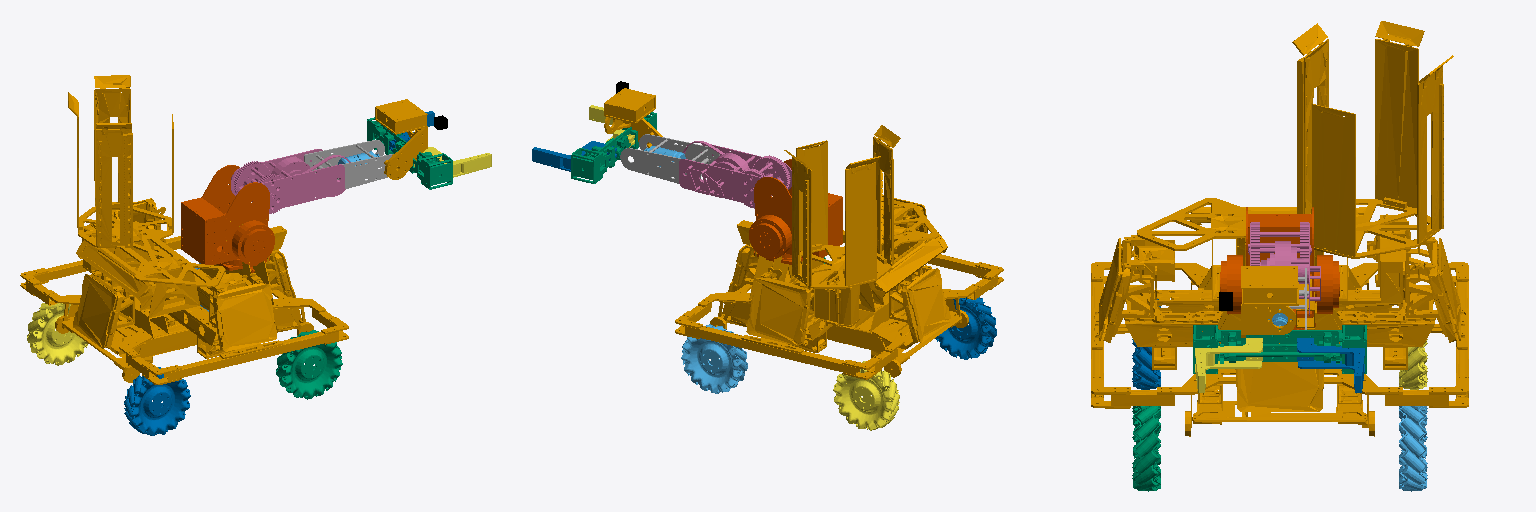
--- Render facts (derived) ---
Views: 3 orthographic renders of the robot side by side, from view 1: azimuth 30°, elevation 25°; view 2: azimuth 150°, elevation 25°; view 3: azimuth 270°, elevation 25°.
Robot: engineer — 78 links, 77 joints (9 revolute, 64 continuous, 2 prismatic, 2 fixed); root link base_link; default pose: all joints at 0.
Visible links, largest first — view 1: base_link, link1, link2, back_right_wheel, front_right_wheel, link4, back_left_wheel, link3, palm, right_finger; view 2: base_link, link2, link1, back_left_wheel, front_left_wheel, link3, back_right_wheel, link4, palm, left_finger; view 3: base_link, palm, link1, link4, link2, front_left_wheel, front_right_wheel, right_finger, left_finger, back_right_wheel, back_left_wheel.
Boxes of the visible links, bbox=[...] form: base_link: bbox=[20, 75, 348, 384]; link1: bbox=[181, 165, 274, 272]; link2: bbox=[231, 149, 350, 213]; back_right_wheel: bbox=[124, 367, 190, 435]; front_right_wheel: bbox=[276, 330, 342, 399]; link4: bbox=[375, 99, 427, 179]; back_left_wheel: bbox=[27, 300, 87, 365]; link3: bbox=[304, 140, 392, 188]; palm: bbox=[367, 117, 452, 189]; right_finger: bbox=[414, 147, 491, 177]; base_link: bbox=[675, 125, 1003, 379]; link2: bbox=[679, 141, 791, 208]; link1: bbox=[749, 159, 842, 264]; back_left_wheel: bbox=[833, 361, 899, 430]; front_left_wheel: bbox=[681, 324, 747, 393]; link3: bbox=[620, 134, 719, 183]; back_right_wheel: bbox=[935, 297, 996, 359]; link4: bbox=[604, 88, 662, 147]; palm: bbox=[571, 112, 656, 183]; left_finger: bbox=[532, 141, 616, 171]; base_link: bbox=[1091, 21, 1468, 436]; palm: bbox=[1193, 325, 1366, 373]; link1: bbox=[1220, 207, 1339, 329]; link4: bbox=[1241, 266, 1298, 337]; link2: bbox=[1248, 222, 1320, 315]; front_left_wheel: bbox=[1399, 406, 1427, 491]; front_right_wheel: bbox=[1132, 406, 1160, 491]; right_finger: bbox=[1195, 338, 1262, 392]; left_finger: bbox=[1297, 338, 1364, 392]; back_right_wheel: bbox=[1132, 299, 1160, 389]; back_left_wheel: bbox=[1399, 339, 1427, 389].
Size in the robot's own frame: 0.959 by 0.596 by 0.6316 metres.
13 mesh visuals loaded from 11 distinct referenced files (11 binary STL).

robot.urdf — engineer:
<?xml version="1.0" ?>
<!-- =================================================================================== -->
<!-- |    This document was autogenerated by xacro from engineer.urdf.xacro            | -->
<!-- |    EDITING THIS FILE BY HAND IS NOT RECOMMENDED                                 | -->
<!-- =================================================================================== -->
<robot name="engineer">
  <link name="base_link">
    <inertial>
      <mass value="28.19"/>
      <origin xyz="-0.0206 -0.00126 -0.0164"/>
      <inertia ixx="1.32e+0" ixy="-8.378e-2" ixz="6.28e-2" iyy="1.549e+0" iyz="5.948e-2" izz="2.024e+0"/>
    </inertial>
    <visual>
      <origin rpy="0 0 0" xyz="0 0 0"/>
      <geometry>
        <mesh filename="package://rm_description/meshes/engineer/base.stl" scale="0.001 .001 0.001"/>
      </geometry>
    </visual>
    <collision>
      <origin rpy="0 0 0" xyz="0 0 0"/>
      <geometry>
        <box size="0.5845 0.526 0.2"/>
      </geometry>
    </collision>
    <!--            <collision>
                            <origin xyz="-0.033 -0.1 0.267" rpy="0 0 0.7853982"/>
                            <geometry>
                                <box size="0.0207 0.0207 0.334"/>
                            </geometry>
                        </collision>
                        <collision>
                            <origin xyz="-0.033 0.10 0.267" rpy="0 0 0.7853982"/>
                            <geometry>
                                <box size="0.0207 0.0207 0.334"/>
                            </geometry>
                        </collision>-->
    <collision>
      <origin rpy="0 0 0.7853982" xyz="-0.23225 -0.1 0.267"/>
      <geometry>
        <box size="0.0207 0.0207 0.334"/>
      </geometry>
    </collision>
    <collision>
      <origin rpy="0 0 0.7853982" xyz="-0.23225 0.1 0.267"/>
      <geometry>
        <box size="0.0207 0.0207 0.334"/>
      </geometry>
    </collision>
    <collision>
      <origin rpy="0 0 0" xyz="-0.193 -0.189 0.235"/>
      <geometry>
        <box size="0.186 0.1 0.3"/>
      </geometry>
    </collision>
    <collision>
      <origin rpy="0 0 0" xyz="-0.0623 -0.2405 0.242"/>
      <geometry>
        <box size="0.08 0.003 0.06"/>
      </geometry>
    </collision>
  </link>
  <!--  link  -->
  <link name="front_left_wheel">
    <visual>
      <geometry>
        <mesh filename="package://rm_description/meshes/common/right_threaded_mecanum_wheel.stl" scale="0.001 0.001 0.001"/>
      </geometry>
    </visual>
    <inertial>
      <mass value="0.59"/>
      <inertia ixx="1.416e-3" ixy="0.0" ixz="0.0" iyy="2.749e-3" iyz="0.0" izz="1.416e-3"/>
    </inertial>
  </link>
  <!--  joint  -->
  <joint name="front_left_wheel_joint" type="revolute">
    <axis xyz="0 1 0"/>
    <origin rpy="0 0 0" xyz="0.19 0.21 -0.109"/>
    <!--      limit not work while type="continuous"-->
    <limit effort="5" lower="-1e16" upper="1e16" velocity="50"/>
    <dynamics damping="0.0" friction="0.05"/>
    <parent link="base_link"/>
    <child link="front_left_wheel"/>
  </joint>
  <!--  link  -->
  <link name="front_left_roller_0">
    <collision>
      <geometry>
        <sphere radius="0.009"/>
      </geometry>
    </collision>
    <inertial>
      <mass value="0.036"/>
      <inertia ixx="3128e-9" ixy="0.0" ixz="0.0" iyy="3128e-9" iyz="0.0" izz="3128e-9"/>
    </inertial>
  </link>
  <joint name="front_left_roller_0_joint" type="continuous">
    <origin rpy="0 0 0" xyz="4.117874862132975e-18 0 -0.06725"/>
    <axis xyz="0.7071067811865476 -0.7071067811865476 0.0"/>
    <dynamics damping="0.0" friction="0.001"/>
    <parent link="front_left_wheel"/>
    <child link="front_left_roller_0"/>
  </joint>
  <gazebo reference="front_left_roller_0">
    <mu1 value="2000.0"/>
    <mu2 value="2000.0"/>
    <kp value="1000000.0"/>
    <kd value="100.0"/>
    <material>Gazebo/Black</material>
  </gazebo>
  <!--  link  -->
  <link name="front_left_roller_1">
    <collision>
      <geometry>
        <sphere radius="0.009"/>
      </geometry>
    </collision>
    <inertial>
      <mass value="0.036"/>
      <inertia ixx="3128e-9" ixy="0.0" ixz="0.0" iyy="3128e-9" iyz="0.0" izz="3128e-9"/>
    </inertial>
  </link>
  <joint name="front_left_roller_1_joint" type="continuous">
    <origin rpy="0 0 0" xyz="0.025754155985525513 0 -0.06212315147731336"/>
    <axis xyz="0.653200024955946 -0.7071067811865476 0.27079462217250855"/>
    <dynamics damping="0.0" friction="0.001"/>
    <parent link="front_left_wheel"/>
    <child link="front_left_roller_1"/>
  </joint>
  <gazebo reference="front_left_roller_1">
    <mu1 value="2000.0"/>
    <mu2 value="2000.0"/>
    <kp value="1000000.0"/>
    <kd value="100.0"/>
    <material>Gazebo/Black</material>
  </gazebo>
  <!--  link  -->
  <link name="front_left_roller_2">
    <collision>
      <geometry>
        <sphere radius="0.009"/>
      </geometry>
    </collision>
    <inertial>
      <mass value="0.036"/>
      <inertia ixx="3128e-9" ixy="0.0" ixz="0.0" iyy="3128e-9" iyz="0.0" izz="3128e-9"/>
    </inertial>
  </link>
  <joint name="front_left_roller_2_joint" type="continuous">
    <origin rpy="0 0 0" xyz="0.04758154151551398 0 -0.04752430333005861"/>
    <axis xyz="0.49969899116506866 -0.7071067811865476 0.5003008277312888"/>
    <dynamics damping="0.0" friction="0.001"/>
    <parent link="front_left_wheel"/>
    <child link="front_left_roller_2"/>
  </joint>
  <gazebo reference="front_left_roller_2">
    <mu1 value="2000.0"/>
    <mu2 value="2000.0"/>
    <kp value="1000000.0"/>
    <kd value="100.0"/>
    <material>Gazebo/Black</material>
  </gazebo>
  <!--  link  -->
  <link name="front_left_roller_3">
    <collision>
      <geometry>
        <sphere radius="0.009"/>
      </geometry>
    </collision>
    <inertial>
      <mass value="0.036"/>
      <inertia ixx="3128e-9" ixy="0.0" ixz="0.0" iyy="3128e-9" iyz="0.0" izz="3128e-9"/>
    </inertial>
  </link>
  <joint name="front_left_roller_3_joint" type="continuous">
    <origin rpy="0 0 0" xyz="0.062154106054395655 0 -0.02567936137404779"/>
    <axis xyz="0.2700081868271984 -0.7071067811865476 0.6535254999204613"/>
    <dynamics damping="0.0" friction="0.001"/>
    <parent link="front_left_wheel"/>
    <child link="front_left_roller_3"/>
  </joint>
  <gazebo reference="front_left_roller_3">
    <mu1 value="2000.0"/>
    <mu2 value="2000.0"/>
    <kp value="1000000.0"/>
    <kd value="100.0"/>
    <material>Gazebo/Black</material>
  </gazebo>
  <!--  link  -->
  <link name="front_left_roller_4">
    <collision>
      <geometry>
        <sphere radius="0.009"/>
      </geometry>
    </collision>
    <inertial>
      <mass value="0.036"/>
      <inertia ixx="3128e-9" ixy="0.0" ixz="0.0" iyy="3128e-9" iyz="0.0" izz="3128e-9"/>
    </inertial>
  </link>
  <joint name="front_left_roller_4_joint" type="continuous">
    <origin rpy="0 0 0" xyz="0.06724995128312455 0 8.094700349681064e-05"/>
    <axis xyz="-0.0008511252801386329 -0.7071067811865476 0.7071062689481388"/>
    <dynamics damping="0.0" friction="0.001"/>
    <parent link="front_left_wheel"/>
    <child link="front_left_roller_4"/>
  </joint>
  <gazebo reference="front_left_roller_4">
    <mu1 value="2000.0"/>
    <mu2 value="2000.0"/>
    <kp value="1000000.0"/>
    <kd value="100.0"/>
    <material>Gazebo/Black</material>
  </gazebo>
  <!--  link  -->
  <link name="front_left_roller_5">
    <collision>
      <geometry>
        <sphere radius="0.009"/>
      </geometry>
    </collision>
    <inertial>
      <mass value="0.036"/>
      <inertia ixx="3128e-9" ixy="0.0" ixz="0.0" iyy="3128e-9" iyz="0.0" izz="3128e-9"/>
    </inertial>
  </link>
  <joint name="front_left_roller_5_joint" type="continuous">
    <origin rpy="0 0 0" xyz="0.06209210689440703 0 0.025828913283634913"/>
    <axis xyz="-0.27158066518271434 -0.7071067811865476 0.6528736036162853"/>
    <dynamics damping="0.0" friction="0.001"/>
    <parent link="front_left_wheel"/>
    <child link="front_left_roller_5"/>
  </joint>
  <gazebo reference="front_left_roller_5">
    <mu1 value="2000.0"/>
    <mu2 value="2000.0"/>
    <kp value="1000000.0"/>
    <kd value="100.0"/>
    <material>Gazebo/Black</material>
  </gazebo>
  <!--  link  -->
  <link name="front_left_roller_6">
    <collision>
      <geometry>
        <sphere radius="0.009"/>
      </geometry>
    </collision>
    <inertial>
      <mass value="0.036"/>
      <inertia ixx="3128e-9" ixy="0.0" ixz="0.0" iyy="3128e-9" iyz="0.0" izz="3128e-9"/>
    </inertial>
  </link>
  <joint name="front_left_roller_6_joint" type="continuous">
    <origin rpy="0 0 0" xyz="0.04746699629001391 0 0.04763871076345167"/>
    <axis xyz="-0.5009019394471561 -0.7071067811865476 0.499096430620454"/>
    <dynamics damping="0.0" friction="0.001"/>
    <parent link="front_left_wheel"/>
    <child link="front_left_roller_6"/>
  </joint>
  <gazebo reference="front_left_roller_6">
    <mu1 value="2000.0"/>
    <mu2 value="2000.0"/>
    <kp value="1000000.0"/>
    <kd value="100.0"/>
    <material>Gazebo/Black</material>
  </gazebo>
  <!--  link  -->
  <link name="front_left_roller_7">
    <collision>
      <geometry>
        <sphere radius="0.009"/>
      </geometry>
    </collision>
    <inertial>
      <mass value="0.036"/>
      <inertia ixx="3128e-9" ixy="0.0" ixz="0.0" iyy="3128e-9" iyz="0.0" izz="3128e-9"/>
    </inertial>
  </link>
  <joint name="front_left_roller_7_joint" type="continuous">
    <origin rpy="0 0 0" xyz="0.02560452955756635 0 0.06218497058080603"/>
    <axis xyz="-0.6538500280382736 -0.7071067811865476 0.2692213602861942"/>
    <dynamics damping="0.0" friction="0.001"/>
    <parent link="front_left_wheel"/>
    <child link="front_left_roller_7"/>
  </joint>
  <gazebo reference="front_left_roller_7">
    <mu1 value="2000.0"/>
    <mu2 value="2000.0"/>
    <kp value="1000000.0"/>
    <kd value="100.0"/>
    <material>Gazebo/Black</material>
  </gazebo>
  <!--  link  -->
  <link name="front_left_roller_8">
    <collision>
      <geometry>
        <sphere radius="0.009"/>
      </geometry>
    </collision>
    <inertial>
      <mass value="0.036"/>
      <inertia ixx="3128e-9" ixy="0.0" ixz="0.0" iyy="3128e-9" iyz="0.0" izz="3128e-9"/>
    </inertial>
  </link>
  <joint name="front_left_roller_8_joint" type="continuous">
    <origin rpy="0 0 0" xyz="-0.0001618938897152502 0 0.06724980513256877"/>
    <axis xyz="-0.7071047322336546 -0.7071067811865476 -0.0017022493271422689"/>
    <dynamics damping="0.0" friction="0.001"/>
    <parent link="front_left_wheel"/>
    <child link="front_left_roller_8"/>
  </joint>
  <gazebo reference="front_left_roller_8">
    <mu1 value="2000.0"/>
    <mu2 value="2000.0"/>
    <kp value="1000000.0"/>
    <kd value="100.0"/>
    <material>Gazebo/Black</material>
  </gazebo>
  <!--  link  -->
  <link name="front_left_roller_9">
    <collision>
      <geometry>
        <sphere radius="0.009"/>
      </geometry>
    </collision>
    <inertial>
      <mass value="0.036"/>
      <inertia ixx="3128e-9" ixy="0.0" ixz="0.0" iyy="3128e-9" iyz="0.0" izz="3128e-9"/>
    </inertial>
  </link>
  <joint name="front_left_roller_9_joint" type="continuous">
    <origin rpy="0 0 0" xyz="-0.025903633160065442 0 0.062060972350654955"/>
    <axis xyz="-0.6525462363744081 -0.7071067811865476 -0.2723663147189738"/>
    <dynamics damping="0.0" friction="0.001"/>
    <parent link="front_left_wheel"/>
    <child link="front_left_roller_9"/>
  </joint>
  <gazebo reference="front_left_roller_9">
    <mu1 value="2000.0"/>
    <mu2 value="2000.0"/>
    <kp value="1000000.0"/>
    <kd value="100.0"/>
    <material>Gazebo/Black</material>
  </gazebo>
  <!--  link  -->
  <link name="front_left_roller_10">
    <collision>
      <geometry>
        <sphere radius="0.009"/>
      </geometry>
    </collision>
    <inertial>
      <mass value="0.036"/>
      <inertia ixx="3128e-9" ixy="0.0" ixz="0.0" iyy="3128e-9" iyz="0.0" izz="3128e-9"/>
    </inertial>
  </link>
  <joint name="front_left_roller_10_joint" type="continuous">
    <origin rpy="0 0 0" xyz="-0.04769581099104322 0 0.04740962047840798"/>
    <axis xyz="-0.49849314697045194 -0.7071067811865476 -0.5015023254417625"/>
    <dynamics damping="0.0" friction="0.001"/>
    <parent link="front_left_wheel"/>
    <child link="front_left_roller_10"/>
  </joint>
  <gazebo reference="front_left_roller_10">
    <mu1 value="2000.0"/>
    <mu2 value="2000.0"/>
    <kp value="1000000.0"/>
    <kd value="100.0"/>
    <material>Gazebo/Black</material>
  </gazebo>
  <!--  link  -->
  <link name="front_left_roller_11">
    <collision>
      <geometry>
        <sphere radius="0.009"/>
      </geometry>
    </collision>
    <inertial>
      <mass value="0.036"/>
      <inertia ixx="3128e-9" ixy="0.0" ixz="0.0" iyy="3128e-9" iyz="0.0" izz="3128e-9"/>
    </inertial>
  </link>
  <joint name="front_left_roller_11_joint" type="continuous">
    <origin rpy="0 0 0" xyz="-0.06221574501182705 0 0.02552966064449972"/>
    <axis xyz="-0.2684341436894733 -0.7071067811865476 -0.6541736088391974"/>
    <dynamics damping="0.0" friction="0.001"/>
    <parent link="front_left_wheel"/>
    <child link="front_left_roller_11"/>
  </joint>
  <gazebo reference="front_left_roller_11">
    <mu1 value="2000.0"/>
    <mu2 value="2000.0"/>
    <kp value="1000000.0"/>
    <kd value="100.0"/>
    <material>Gazebo/Black</material>
  </gazebo>
  <!--  link  -->
  <link name="front_left_roller_12">
    <collision>
      <geometry>
        <sphere radius="0.009"/>
      </geometry>
    </collision>
    <inertial>
      <mass value="0.036"/>
      <inertia ixx="3128e-9" ixy="0.0" ixz="0.0" iyy="3128e-9" iyz="0.0" izz="3128e-9"/>
    </inertial>
  </link>
  <joint name="front_left_roller_12_joint" type="continuous">
    <origin rpy="0 0 0" xyz="-0.06724956154854442 0 -0.00024284054137712588"/>
    <axis xyz="0.002553370907877698 -0.7071067811865476 -0.7071021710453214"/>
    <dynamics damping="0.0" friction="0.001"/>
    <parent link="front_left_wheel"/>
    <child link="front_left_roller_12"/>
  </joint>
  <gazebo reference="front_left_roller_12">
    <mu1 value="2000.0"/>
    <mu2 value="2000.0"/>
    <kp value="1000000.0"/>
    <kd value="100.0"/>
    <material>Gazebo/Black</material>
  </gazebo>
  <!--  link  -->
  <link name="front_left_roller_13">
    <collision>
      <geometry>
        <sphere radius="0.009"/>
      </geometry>
    </collision>
    <inertial>
      <mass value="0.036"/>
      <inertia ixx="3128e-9" ixy="0.0" ixz="0.0" iyy="3128e-9" iyz="0.0" izz="3128e-9"/>
    </inertial>
  </link>
  <joint name="front_left_roller_13_joint" type="continuous">
    <origin rpy="0 0 0" xyz="-0.062029747891165755 0 -0.025978315506560806"/>
    <axis xyz="0.2731515696430154 -0.7071067811865476 -0.6522179237046135"/>
    <dynamics damping="0.0" friction="0.001"/>
    <parent link="front_left_wheel"/>
    <child link="front_left_roller_13"/>
  </joint>
  <gazebo reference="front_left_roller_13">
    <mu1 value="2000.0"/>
    <mu2 value="2000.0"/>
    <kp value="1000000.0"/>
    <kd value="100.0"/>
    <material>Gazebo/Black</material>
  </gazebo>
  <!--  link  -->
  <link name="front_left_roller_14">
    <collision>
      <geometry>
        <sphere radius="0.009"/>
      </geometry>
    </collision>
    <inertial>
      <mass value="0.036"/>
      <inertia ixx="3128e-9" ixy="0.0" ixz="0.0" iyy="3128e-9" iyz="0.0" izz="3128e-9"/>
    </inertial>
  </link>
  <joint name="front_left_roller_14_joint" type="continuous">
    <origin rpy="0 0 0" xyz="-0.047352175978368535 0 -0.04775284211556018"/>
    <axis xyz="0.5021019848452515 -0.7071067811865476 -0.49788914108911725"/>
    <dynamics damping="0.0" friction="0.001"/>
    <parent link="front_left_wheel"/>
    <child link="front_left_roller_14"/>
  </joint>
  <gazebo reference="front_left_roller_14">
    <mu1 value="2000.0"/>
    <mu2 value="2000.0"/>
    <kp value="1000000.0"/>
    <kd value="100.0"/>
    <material>Gazebo/Black</material>
  </gazebo>
  <!--  link  -->
  <link name="front_left_roller_15">
    <collision>
      <geometry>
        <sphere radius="0.009"/>
      </geometry>
    </collision>
    <inertial>
      <mass value="0.036"/>
      <inertia ixx="3128e-9" ixy="0.0" ixz="0.0" iyy="3128e-9" iyz="0.0" izz="3128e-9"/>
    </inertial>
  </link>
  <joint name="front_left_roller_15_joint" type="continuous">
    <origin rpy="0 0 0" xyz="-0.025454754743320145 0 -0.06224642930287183"/>
    <axis xyz="0.6544962418544192 -0.7071067811865476 -0.2676465381775779"/>
    <dynamics damping="0.0" friction="0.001"/>
    <parent link="front_left_wheel"/>
    <child link="front_left_roller_15"/>
  </joint>
  <gazebo reference="front_left_roller_15">
    <mu1 value="2000.0"/>
    <mu2 value="2000.0"/>
    <kp value="1000000.0"/>
    <kd value="100.0"/>
    <material>Gazebo/Black</material>
  </gazebo>
  <!--  link  -->
  <link name="front_right_wheel">
    <visual>
      <geometry>
        <mesh filename="package://rm_description/meshes/common/left_threaded_mecanum_wheel.stl" scale="0.001 0.001 0.001"/>
      </geometry>
    </visual>
    <inertial>
      <mass value="0.59"/>
      <inertia ixx="1.416e-3" ixy="0.0" ixz="0.0" iyy="2.749e-3" iyz="0.0" izz="1.416e-3"/>
    </inertial>
  </link>
  <!--  joint  -->
  <joint name="front_right_wheel_joint" type="revolute">
    <axis xyz="0 1 0"/>
    <origin rpy="0 0 0" xyz="0.19 -0.21 -0.109"/>
    <!--      limit not work while type="continuous"-->
    <limit effort="5" lower="-1e16" upper="1e16" velocity="50"/>
    <dynamics damping="0.0" friction="0.05"/>
    <parent link="base_link"/>
    <child link="front_right_wheel"/>
  </joint>
  <!--  link  -->
  <link name="front_right_roller_0">
    <collision>
      <geometry>
        <sphere radius="0.009"/>
      </geometry>
    </collision>
    <inertial>
      <mass value="0.036"/>
      <inertia ixx="3128e-9" ixy="0.0" ixz="0.0" iyy="3128e-9" iyz="0.0" izz="3128e-9"/>
    </inertial>
  </link>
  <joint name="front_right_roller_0_joint" type="continuous">
    <origin rpy="0 0 0" xyz="4.117874862132975e-18 0 -0.06725"/>
    <axis xyz="0.7071067811865476 0.7071067811865476 0.0"/>
    <dynamics damping="0.0" friction="0.001"/>
    <parent link="front_right_wheel"/>
    <child link="front_right_roller_0"/>
  </joint>
  <gazebo reference="front_right_roller_0">
    <mu1 value="2000.0"/>
    <mu2 value="2000.0"/>
    <kp value="1000000.0"/>
    <kd value="100.0"/>
    <material>Gazebo/Black</material>
  </gazebo>
  <!--  link  -->
  <link name="front_right_roller_1">
    <collision>
      <geometry>
        <sphere radius="0.009"/>
      </geometry>
    </collision>
    <inertial>
      <mass value="0.036"/>
      <inertia ixx="3128e-9" ixy="0.0" ixz="0.0" iyy="3128e-9" iyz="0.0" izz="3128e-9"/>
    </inertial>
  </link>
  <joint name="front_right_roller_1_joint" type="continuous">
    <origin rpy="0 0 0" xyz="0.025754155985525513 0 -0.06212315147731336"/>
    <axis xyz="0.653200024955946 0.7071067811865476 0.27079462217250855"/>
    <dynamics damping="0.0" friction="0.001"/>
    <parent link="front_right_wheel"/>
    <child link="front_right_roller_1"/>
  </joint>
  <gazebo reference="front_right_roller_1">
    <mu1 value="2000.0"/>
    <mu2 value="2000.0"/>
    <kp value="1000000.0"/>
    <kd value="100.0"/>
    <material>Gazebo/Black</material>
  </gazebo>
  <!--  link  -->
  <link name="front_right_roller_2">
    <collision>
      <geometry>
        <sphere radius="0.009"/>
      </geometry>
    </collision>
    <inertial>
      <mass value="0.036"/>
      <inertia ixx="3128e-9" ixy="0.0" ixz="0.0" iyy="3128e-9" iyz="0.0" izz="3128e-9"/>
    </inertial>
  </link>
  <joint name="front_right_roller_2_joint" type="continuous">
    <origin rpy="0 0 0" xyz="0.04758154151551398 0 -0.04752430333005861"/>
    <axis xyz="0.49969899116506866 0.7071067811865476 0.5003008277312888"/>
    <dynamics damping="0.0" friction="0.001"/>
    <parent link="front_right_wheel"/>
    <child link="front_right_roller_2"/>
  </joint>
  <gazebo reference="front_right_roller_2">
    <mu1 value="2000.0"/>
    <mu2 value="2000.0"/>
    <kp value="1000000.0"/>
    <kd value="100.0"/>
    <material>Gazebo/Black</material>
  </gazebo>
  <!--  link  -->
  <link name="front_right_roller_3">
    <collision>
      <geometry>
        <sphere radius="0.009"/>
      </geometry>
    </collision>
    <inertial>
      <mass value="0.036"/>
      <inertia ixx="3128e-9" ixy="0.0" ixz="0.0" iyy="3128e-9" iyz="0.0" izz="3128e-9"/>
    </inertial>
  </link>
  <joint name="front_right_roller_3_joint" type="continuous">
    <origin rpy="0 0 0" xyz="0.062154106054395655 0 -0.02567936137404779"/>
    <axis xyz="0.2700081868271984 0.7071067811865476 0.6535254999204613"/>
    <dynamics damping="0.0" friction="0.001"/>
    <parent link="front_right_wheel"/>
    <child link="front_right_roller_3"/>
  </joint>
  <gazebo reference="front_right_roller_3">
    <mu1 value="2000.0"/>
    <mu2 value="2000.0"/>
    <kp value="1000000.0"/>
    <kd value="100.0"/>
    <material>Gazebo/Black</material>
  </gazebo>
  <!--  link  -->
  <link name="front_right_roller_4">
    <collision>
      <geometry>
        <sphere radius="0.009"/>
      </geometry>
    </collision>
    <inertial>
      <mass value="0.036"/>
      <inertia ixx="3128e-9" ixy="0.0" ixz="0.0" iyy="3128e-9" iyz="0.0" izz="3128e-9"/>
    </inertial>
  </link>
  <joint name="front_right_roller_4_joint" type="continuous">
    <origin rpy="0 0 0" xyz="0.06724995128312455 0 8.094700349681064e-05"/>
    <axis xyz="-0.0008511252801386329 0.7071067811865476 0.7071062689481388"/>
    <dynamics damping="0.0" friction="0.001"/>
    <parent link="front_right_wheel"/>
    <child link="front_right_roller_4"/>
  </joint>
  <gazebo reference="front_right_roller_4">
    <mu1 value="2000.0"/>
    <mu2 value="2000.0"/>
    <kp value="1000000.0"/>
    <kd value="100.0"/>
    <material>Gazebo/Black</material>
  </gazebo>
  <!--  link  -->
  <link name="front_right_roller_5">
    <collision>
      <geometry>
        <sphere radius="0.009"/>
      </geometry>
    </collision>
    <inertial>
      <mass value="0.036"/>
      <inertia ixx="3128e-9" ixy="0.0" ixz="0.0" iyy="3128e-9" iyz="0.0" izz="3128e-9"/>
    </inertial>
  </link>
  <joint name="front_right_roller_5_joint" type="continuous">
    <origin rpy="0 0 0" xyz="0.06209210689440703 0 0.025828913283634913"/>
    <axis xyz="-0.27158066518271434 0.7071067811865476 0.6528736036162853"/>
    <dynamics damping="0.0" friction="0.001"/>
    <parent link="front_right_wheel"/>
    <child link="front_right_roller_5"/>
  </joint>
  <gazebo reference="front_right_roller_5">
    <mu1 value="2000.0"/>
    <mu2 value="2000.0"/>
    <kp value="1000000.0"/>
    <kd value="100.0"/>
    <material>Gazebo/Black</material>
  </gazebo>
  <!--  link  -->
  <link name="front_right_roller_6">
    <collision>
      <geometry>
        <sphere radius="0.009"/>
      </geometry>
    </collision>
    <inertial>
      <mass value="0.036"/>
      <inertia ixx="3128e-9" ixy="0.0" ixz="0.0" iyy="3128e-9" iyz="0.0" izz="3128e-9"/>
    </inertial>
  </link>
  <joint name="front_right_roller_6_joint" type="continuous">
    <origin rpy="0 0 0" xyz="0.04746699629001391 0 0.04763871076345167"/>
    <axis xyz="-0.5009019394471561 0.7071067811865476 0.499096430620454"/>
    <dynamics damping="0.0" friction="0.001"/>
    <parent link="front_right_wheel"/>
    <child link="front_right_roller_6"/>
  </joint>
  <gazebo reference="front_right_roller_6">
    <mu1 value="2000.0"/>
    <mu2 value="2000.0"/>
    <kp value="1000000.0"/>
    <kd value="100.0"/>
    <material>Gazebo/Black</material>
  </gazebo>
  <!--  link  -->
  <link name="front_right_roller_7">
    <collision>
      <geometry>
        <sphere radius="0.009"/>
      </geometry>
    </collision>
    <inertial>
      <mass value="0.036"/>
      <inertia ixx="3128e-9" ixy="0.0" ixz="0.0" iyy="3128e-9" iyz="0.0" izz="3128e-9"/>
    </inertial>
  </link>
  <joint name="front_right_roller_7_joint" type="continuous">
    <origin rpy="0 0 0" xyz="0.02560452955756635 0 0.06218497058080603"/>
    <axis xyz="-0.6538500280382736 0.7071067811865476 0.2692213602861942"/>
    <dynamics damping="0.0" friction="0.001"/>
    <parent link="front_right_wheel"/>
    <child link="front_right_roller_7"/>
  </joint>
  <gazebo reference="front_right_roller_7">
    <mu1 value="2000.0"/>
    <mu2 value="2000.0"/>
    <kp value="1000000.0"/>
    <kd value="100.0"/>
    <material>Gazebo/Black</material>
  </gazebo>
  <!--  link  -->
  <link name="front_right_roller_8">
    <collision>
      <geometry>
        <sphere radius="0.009"/>
      </geometry>
    </collision>
    <inertial>
      <mass value="0.036"/>
      <inertia ixx="3128e-9" ixy="0.0" ixz="0.0" iyy="3128e-9" iyz="0.0" izz="3128e-9"/>
    </inertial>
  </link>
  <joint name="front_right_roller_8_joint" type="continuous">
    <origin rpy="0 0 0" xyz="-0.0001618938897152502 0 0.06724980513256877"/>
    <axis xyz="-0.7071047322336546 0.7071067811865476 -0.0017022493271422689"/>
    <dynamics damping="0.0" friction="0.001"/>
    <parent link="front_right_wheel"/>
    <child link="front_right_roller_8"/>
  </joint>
  <gazebo reference="front_right_roller_8">
    <mu1 value="2000.0"/>
    <mu2 value="2000.0"/>
    <kp value="1000000.0"/>
    <kd value="100.0"/>
    <material>Gazebo/Black</material>
  </gazebo>
  <!--  link  -->
  <link name="front_right_roller_9">
    <collision>
      <geometry>
        <sphere radius="0.009"/>
      </geometry>
    </collision>
    <inertial>
      <mass value="0.036"/>
      <inertia ixx="3128e-9" ixy="0.0" ixz="0.0" iyy="3128e-9" iyz="0.0" izz="3128e-9"/>
    </inertial>
  </link>
  <joint name="front_right_roller_9_joint" type="continuous">
    <origin rpy="0 0 0" xyz="-0.025903633160065442 0 0.062060972350654955"/>
    <axis xyz="-0.6525462363744081 0.7071067811865476 -0.2723663147189738"/>
    <dynamics damping="0.0" friction="0.001"/>
    <parent link="front_right_wheel"/>
    <child link="front_right_roller_9"/>
  </joint>
  <gazebo reference="front_right_roller_9">
    <mu1 value="2000.0"/>
    <mu2 value="2000.0"/>
    <kp value="1000000.0"/>
    <kd value="100.0"/>
    <material>Gazebo/Black</material>
  </gazebo>
  <!--  link  -->
  <link name="front_right_roller_10">
    <collision>
      <geometry>
        <sphere radius="0.009"/>
      </geometry>
    </collision>
    <inertial>
      <mass value="0.036"/>
      <inertia ixx="3128e-9" ixy="0.0" ixz="0.0" iyy="3128e-9" iyz="0.0" izz="3128e-9"/>
    </inertial>
  </link>
  <joint name="front_right_roller_10_joint" type="continuous">
    <origin rpy="0 0 0" xyz="-0.04769581099104322 0 0.04740962047840798"/>
    <axis xyz="-0.49849314697045194 0.7071067811865476 -0.5015023254417625"/>
    <dynamics damping="0.0" friction="0.001"/>
    <parent link="front_right_wheel"/>
    <child link="front_right_roller_10"/>
  </joint>
  <gazebo reference="front_right_roller_10">
    <mu1 value="2000.0"/>
    <mu2 value="2000.0"/>
    <kp value="1000000.0"/>
    <kd value="100.0"/>
    <material>Gazebo/Black</material>
  </gazebo>
  <!--  link  -->
  <link name="front_right_roller_11">
    <collision>
      <geometry>
        <sphere radius="0.009"/>
      </geometry>
    </collision>
    <inertial>
      <mass value="0.036"/>
      <inertia ixx="3128e-9" ixy="0.0" ixz="0.0" iyy="3128e-9" iyz="0.0" izz="3128e-9"/>
    </inertial>
  </link>
  <joint name="front_right_roller_11_joint" type="continuous">
    <origin rpy="0 0 0" xyz="-0.06221574501182705 0 0.02552966064449972"/>
    <axis xyz="-0.2684341436894733 0.7071067811865476 -0.6541736088391974"/>
    <dynamics damping="0.0" friction="0.001"/>
    <parent link="front_right_wheel"/>
    <child link="front_right_roller_11"/>
  </joint>
  <gazebo reference="front_right_roller_11">
    <mu1 value="2000.0"/>
    <mu2 value="2000.0"/>
    <kp value="1000000.0"/>
    <kd value="100.0"/>
    <material>Gazebo/Black</material>
  </gazebo>
  <!--  link  -->
  <link name="front_right_roller_12">
    <collision>
      <geometry>
        <sphere radius="0.009"/>
      </geometry>
    </collision>
    <inertial>
      <mass value="0.036"/>
      <inertia ixx="3128e-9" ixy="0.0" ixz="0.0" iyy="3128e-9" iyz="0.0" izz="3128e-9"/>
    </inertial>
  </link>
  <joint name="front_right_roller_12_joint" type="continuous">
    <origin rpy="0 0 0" xyz="-0.06724956154854442 0 -0.00024284054137712588"/>
    <axis xyz="0.002553370907877698 0.7071067811865476 -0.7071021710453214"/>
    <dynamics damping="0.0" friction="0.001"/>
    <parent link="front_right_wheel"/>
    <child link="front_right_roller_12"/>
  </joint>
  <gazebo reference="front_right_roller_12">
    <mu1 value="2000.0"/>
    <mu2 value="2000.0"/>
    <kp value="1000000.0"/>
    <kd value="100.0"/>
    <material>Gazebo/Black</material>
  </gazebo>
  <!--  link  -->
  <link name="front_right_roller_13">
    <collision>
      <geometry>
        <sphere radius="0.009"/>
      </geometry>
    </collision>
    <inertial>
      <mass value="0.036"/>
      <inertia ixx="3128e-9" ixy="0.0" ixz="0.0" iyy="3128e-9" iyz="0.0" izz="3128e-9"/>
    </inertial>
  </link>
  <joint name="front_right_roller_13_joint" type="continuous">
    <origin rpy="0 0 0" xyz="-0.062029747891165755 0 -0.025978315506560806"/>
    <axis xyz="0.2731515696430154 0.7071067811865476 -0.6522179237046135"/>
    <dynamics damping="0.0" friction="0.001"/>
    <parent link="front_right_wheel"/>
    <child link="front_right_roller_13"/>
  </joint>
  <gazebo reference="front_right_roller_13">
    <mu1 value="2000.0"/>
    <mu2 value="2000.0"/>
    <kp value="1000000.0"/>
    <kd value="100.0"/>
    <material>Gazebo/Black</material>
  </gazebo>
  <!--  link  -->
  <link name="front_right_roller_14">
    <collision>
      <geometry>
        <sphere radius="0.009"/>
      </geometry>
    </collision>
    <inertial>
      <mass value="0.036"/>
      <inertia ixx="3128e-9" ixy="0.0" ixz="0.0" iyy="3128e-9" iyz="0.0" izz="3128e-9"/>
    </inertial>
  </link>
  <joint name="front_right_roller_14_joint" type="continuous">
    <origin rpy="0 0 0" xyz="-0.047352175978368535 0 -0.04775284211556018"/>
    <axis xyz="0.5021019848452515 0.7071067811865476 -0.49788914108911725"/>
    <dynamics damping="0.0" friction="0.001"/>
    <parent link="front_right_wheel"/>
    <child link="front_right_roller_14"/>
  </joint>
  <gazebo reference="front_right_roller_14">
    <mu1 value="2000.0"/>
    <mu2 value="2000.0"/>
    <kp value="1000000.0"/>
    <kd value="100.0"/>
    <material>Gazebo/Black</material>
  </gazebo>
  <!--  link  -->
  <link name="front_right_roller_15">
    <collision>
      <geometry>
        <sphere radius="0.009"/>
      </geometry>
    </collision>
    <inertial>
      <mass value="0.036"/>
      <inertia ixx="3128e-9" ixy="0.0" ixz="0.0" iyy="3128e-9" iyz="0.0" izz="3128e-9"/>
    </inertial>
  </link>
  <joint name="front_right_roller_15_joint" type="continuous">
    <origin rpy="0 0 0" xyz="-0.025454754743320145 0 -0.06224642930287183"/>
    <axis xyz="0.6544962418544192 0.7071067811865476 -0.2676465381775779"/>
    <dynamics damping="0.0" friction="0.001"/>
    <parent link="front_right_wheel"/>
    <child link="front_right_roller_15"/>
  </joint>
  <gazebo reference="front_right_roller_15">
    <mu1 value="2000.0"/>
    <mu2 value="2000.0"/>
    <kp value="1000000.0"/>
    <kd value="100.0"/>
    <material>Gazebo/Black</material>
  </gazebo>
  <!--  link  -->
  <link name="back_left_wheel">
    <visual>
      <geometry>
        <mesh filename="package://rm_description/meshes/common/left_threaded_mecanum_wheel.stl" scale="0.001 0.001 0.001"/>
      </geometry>
    </visual>
    <inertial>
      <mass value="0.59"/>
      <inertia ixx="1.416e-3" ixy="0.0" ixz="0.0" iyy="2.749e-3" iyz="0.0" izz="1.416e-3"/>
    </inertial>
  </link>
  <!--  joint  -->
  <joint name="back_left_wheel_joint" type="revolute">
    <axis xyz="0 1 0"/>
    <origin rpy="0 0 0" xyz="-0.19 0.21 -0.109"/>
    <!--      limit not work while type="continuous"-->
    <limit effort="5" lower="-1e16" upper="1e16" velocity="50"/>
    <dynamics damping="0.0" friction="0.05"/>
    <parent link="base_link"/>
    <child link="back_left_wheel"/>
  </joint>
  <!--  link  -->
  <link name="back_left_roller_0">
    <collision>
      <geometry>
        <sphere radius="0.009"/>
      </geometry>
    </collision>
    <inertial>
      <mass value="0.036"/>
      <inertia ixx="3128e-9" ixy="0.0" ixz="0.0" iyy="3128e-9" iyz="0.0" izz="3128e-9"/>
    </inertial>
  </link>
  <joint name="back_left_roller_0_joint" type="continuous">
    <origin rpy="0 0 0" xyz="4.117874862132975e-18 0 -0.06725"/>
    <axis xyz="0.7071067811865476 0.7071067811865476 0.0"/>
    <dynamics damping="0.0" friction="0.001"/>
    <parent link="back_left_wheel"/>
    <child link="back_left_roller_0"/>
  </joint>
  <gazebo reference="back_left_roller_0">
    <mu1 value="2000.0"/>
    <mu2 value="2000.0"/>
    <kp value="1000000.0"/>
    <kd value="100.0"/>
    <material>Gazebo/Black</material>
  </gazebo>
  <!--  link  -->
  <link name="back_left_roller_1">
    <collision>
      <geometry>
        <sphere radius="0.009"/>
      </geometry>
    </collision>
    <inertial>
      <mass value="0.036"/>
      <inertia ixx="3128e-9" ixy="0.0" ixz="0.0" iyy="3128e-9" iyz="0.0" izz="3128e-9"/>
    </inertial>
  </link>
  <joint name="back_left_roller_1_joint" type="continuous">
    <origin rpy="0 0 0" xyz="0.025754155985525513 0 -0.06212315147731336"/>
    <axis xyz="0.653200024955946 0.7071067811865476 0.27079462217250855"/>
    <dynamics damping="0.0" friction="0.001"/>
    <parent link="back_left_wheel"/>
    <child link="back_left_roller_1"/>
  </joint>
  <gazebo reference="back_left_roller_1">
    <mu1 value="2000.0"/>
    <mu2 value="2000.0"/>
    <kp value="1000000.0"/>
    <kd value="100.0"/>
    <material>Gazebo/Black</material>
  </gazebo>
  <!--  link  -->
  <link name="back_left_roller_2">
    <collision>
      <geometry>
        <sphere radius="0.009"/>
      </geometry>
    </collision>
    <inertial>
      <mass value="0.036"/>
      <inertia ixx="3128e-9" ixy="0.0" ixz="0.0" iyy="3128e-9" iyz="0.0" izz="3128e-9"/>
    </inertial>
  </link>
  <joint name="back_left_roller_2_joint" type="continuous">
    <origin rpy="0 0 0" xyz="0.04758154151551398 0 -0.04752430333005861"/>
    <axis xyz="0.49969899116506866 0.7071067811865476 0.5003008277312888"/>
    <dynamics damping="0.0" friction="0.001"/>
    <parent link="back_left_wheel"/>
    <child link="back_left_roller_2"/>
  </joint>
  <gazebo reference="back_left_roller_2">
    <mu1 value="2000.0"/>
    <mu2 value="2000.0"/>
    <kp value="1000000.0"/>
    <kd value="100.0"/>
    <material>Gazebo/Black</material>
  </gazebo>
  <!--  link  -->
  <link name="back_left_roller_3">
    <collision>
      <geometry>
        <sphere radius="0.009"/>
      </geometry>
    </collision>
    <inertial>
      <mass value="0.036"/>
      <inertia ixx="3128e-9" ixy="0.0" ixz="0.0" iyy="3128e-9" iyz="0.0" izz="3128e-9"/>
    </inertial>
  </link>
  <joint name="back_left_roller_3_joint" type="continuous">
    <origin rpy="0 0 0" xyz="0.062154106054395655 0 -0.02567936137404779"/>
    <axis xyz="0.2700081868271984 0.7071067811865476 0.6535254999204613"/>
    <dynamics damping="0.0" friction="0.001"/>
    <parent link="back_left_wheel"/>
    <child link="back_left_roller_3"/>
  </joint>
  <gazebo reference="back_left_roller_3">
    <mu1 value="2000.0"/>
    <mu2 value="2000.0"/>
    <kp value="1000000.0"/>
    <kd value="100.0"/>
    <material>Gazebo/Black</material>
  </gazebo>
  <!--  link  -->
  <link name="back_left_roller_4">
    <collision>
      <geometry>
        <sphere radius="0.009"/>
      </geometry>
    </collision>
    <inertial>
      <mass value="0.036"/>
      <inertia ixx="3128e-9" ixy="0.0" ixz="0.0" iyy="3128e-9" iyz="0.0" izz="3128e-9"/>
    </inertial>
  </link>
  <joint name="back_left_roller_4_joint" type="continuous">
    <origin rpy="0 0 0" xyz="0.06724995128312455 0 8.094700349681064e-05"/>
    <axis xyz="-0.0008511252801386329 0.7071067811865476 0.7071062689481388"/>
    <dynamics damping="0.0" friction="0.001"/>
    <parent link="back_left_wheel"/>
    <child link="back_left_roller_4"/>
  </joint>
  <gazebo reference="back_left_roller_4">
    <mu1 value="2000.0"/>
    <mu2 value="2000.0"/>
    <kp value="1000000.0"/>
    <kd value="100.0"/>
    <material>Gazebo/Black</material>
  </gazebo>
  <!--  link  -->
  <link name="back_left_roller_5">
    <collision>
      <geometry>
        <sphere radius="0.009"/>
      </geometry>
    </collision>
    <inertial>
      <mass value="0.036"/>
      <inertia ixx="3128e-9" ixy="0.0" ixz="0.0" iyy="3128e-9" iyz="0.0" izz="3128e-9"/>
    </inertial>
  </link>
  <joint name="back_left_roller_5_joint" type="continuous">
    <origin rpy="0 0 0" xyz="0.06209210689440703 0 0.025828913283634913"/>
    <axis xyz="-0.27158066518271434 0.7071067811865476 0.6528736036162853"/>
    <dynamics damping="0.0" friction="0.001"/>
    <parent link="back_left_wheel"/>
    <child link="back_left_roller_5"/>
  </joint>
  <gazebo reference="back_left_roller_5">
    <mu1 value="2000.0"/>
    <mu2 value="2000.0"/>
    <kp value="1000000.0"/>
    <kd value="100.0"/>
    <material>Gazebo/Black</material>
  </gazebo>
  <!--  link  -->
  <link name="back_left_roller_6">
    <collision>
      <geometry>
        <sphere radius="0.009"/>
      </geometry>
    </collision>
    <inertial>
      <mass value="0.036"/>
      <inertia ixx="3128e-9" ixy="0.0" ixz="0.0" iyy="3128e-9" iyz="0.0" izz="3128e-9"/>
    </inertial>
  </link>
  <joint name="back_left_roller_6_joint" type="continuous">
    <origin rpy="0 0 0" xyz="0.04746699629001391 0 0.04763871076345167"/>
    <axis xyz="-0.5009019394471561 0.7071067811865476 0.499096430620454"/>
    <dynamics damping="0.0" friction="0.001"/>
    <parent link="back_left_wheel"/>
    <child link="back_left_roller_6"/>
  </joint>
  <gazebo reference="back_left_roller_6">
    <mu1 value="2000.0"/>
    <mu2 value="2000.0"/>
    <kp value="1000000.0"/>
    <kd value="100.0"/>
    <material>Gazebo/Black</material>
  </gazebo>
  <!--  link  -->
  <link name="back_left_roller_7">
    <collision>
      <geometry>
        <sphere radius="0.009"/>
      </geometry>
    </collision>
    <inertial>
      <mass value="0.036"/>
      <inertia ixx="3128e-9" ixy="0.0" ixz="0.0" iyy="3128e-9" iyz="0.0" izz="3128e-9"/>
    </inertial>
  </link>
  <joint name="back_left_roller_7_joint" type="continuous">
    <origin rpy="0 0 0" xyz="0.02560452955756635 0 0.06218497058080603"/>
    <axis xyz="-0.6538500280382736 0.7071067811865476 0.2692213602861942"/>
    <dynamics damping="0.0" friction="0.001"/>
    <parent link="back_left_wheel"/>
    <child link="back_left_roller_7"/>
  </joint>
  <gazebo reference="back_left_roller_7">
    <mu1 value="2000.0"/>
    <mu2 value="2000.0"/>
    <kp value="1000000.0"/>
    <kd value="100.0"/>
    <material>Gazebo/Black</material>
  </gazebo>
  <!--  link  -->
  <link name="back_left_roller_8">
    <collision>
      <geometry>
        <sphere radius="0.009"/>
      </geometry>
    </collision>
    <inertial>
      <mass value="0.036"/>
      <inertia ixx="3128e-9" ixy="0.0" ixz="0.0" iyy="3128e-9" iyz="0.0" izz="3128e-9"/>
    </inertial>
  </link>
  <joint name="back_left_roller_8_joint" type="continuous">
    <origin rpy="0 0 0" xyz="-0.0001618938897152502 0 0.06724980513256877"/>
    <axis xyz="-0.7071047322336546 0.7071067811865476 -0.0017022493271422689"/>
    <dynamics damping="0.0" friction="0.001"/>
    <parent link="back_left_wheel"/>
    <child link="back_left_roller_8"/>
  </joint>
  <gazebo reference="back_left_roller_8">
    <mu1 value="2000.0"/>
    <mu2 value="2000.0"/>
    <kp value="1000000.0"/>
    <kd value="100.0"/>
    <material>Gazebo/Black</material>
  </gazebo>
  <!--  link  -->
  <link name="back_left_roller_9">
    <collision>
      <geometry>
        <sphere radius="0.009"/>
      </geometry>
    </collision>
    <inertial>
      <mass value="0.036"/>
      <inertia ixx="3128e-9" ixy="0.0" ixz="0.0" iyy="3128e-9" iyz="0.0" izz="3128e-9"/>
    </inertial>
  </link>
  <joint name="back_left_roller_9_joint" type="continuous">
    <origin rpy="0 0 0" xyz="-0.025903633160065442 0 0.062060972350654955"/>
    <axis xyz="-0.6525462363744081 0.7071067811865476 -0.2723663147189738"/>
    <dynamics damping="0.0" friction="0.001"/>
    <parent link="back_left_wheel"/>
    <child link="back_left_roller_9"/>
  </joint>
  <gazebo reference="back_left_roller_9">
    <mu1 value="2000.0"/>
    <mu2 value="2000.0"/>
    <kp value="1000000.0"/>
    <kd value="100.0"/>
    <material>Gazebo/Black</material>
  </gazebo>
  <!--  link  -->
  <link name="back_left_roller_10">
    <collision>
      <geometry>
        <sphere radius="0.009"/>
      </geometry>
    </collision>
    <inertial>
      <mass value="0.036"/>
      <inertia ixx="3128e-9" ixy="0.0" ixz="0.0" iyy="3128e-9" iyz="0.0" izz="3128e-9"/>
    </inertial>
  </link>
  <joint name="back_left_roller_10_joint" type="continuous">
    <origin rpy="0 0 0" xyz="-0.04769581099104322 0 0.04740962047840798"/>
    <axis xyz="-0.49849314697045194 0.7071067811865476 -0.5015023254417625"/>
    <dynamics damping="0.0" friction="0.001"/>
    <parent link="back_left_wheel"/>
    <child link="back_left_roller_10"/>
  </joint>
  <gazebo reference="back_left_roller_10">
    <mu1 value="2000.0"/>
    <mu2 value="2000.0"/>
    <kp value="1000000.0"/>
    <kd value="100.0"/>
    <material>Gazebo/Black</material>
  </gazebo>
  <!--  link  -->
  <link name="back_left_roller_11">
    <collision>
      <geometry>
        <sphere radius="0.009"/>
      </geometry>
    </collision>
    <inertial>
      <mass value="0.036"/>
      <inertia ixx="3128e-9" ixy="0.0" ixz="0.0" iyy="3128e-9" iyz="0.0" izz="3128e-9"/>
    </inertial>
  </link>
  <joint name="back_left_roller_11_joint" type="continuous">
    <origin rpy="0 0 0" xyz="-0.06221574501182705 0 0.02552966064449972"/>
    <axis xyz="-0.2684341436894733 0.7071067811865476 -0.6541736088391974"/>
    <dynamics damping="0.0" friction="0.001"/>
    <parent link="back_left_wheel"/>
    <child link="back_left_roller_11"/>
  </joint>
  <gazebo reference="back_left_roller_11">
    <mu1 value="2000.0"/>
    <mu2 value="2000.0"/>
    <kp value="1000000.0"/>
    <kd value="100.0"/>
    <material>Gazebo/Black</material>
  </gazebo>
  <!--  link  -->
  <link name="back_left_roller_12">
    <collision>
      <geometry>
        <sphere radius="0.009"/>
      </geometry>
    </collision>
    <inertial>
      <mass value="0.036"/>
      <inertia ixx="3128e-9" ixy="0.0" ixz="0.0" iyy="3128e-9" iyz="0.0" izz="3128e-9"/>
    </inertial>
  </link>
  <joint name="back_left_roller_12_joint" type="continuous">
    <origin rpy="0 0 0" xyz="-0.06724956154854442 0 -0.00024284054137712588"/>
    <axis xyz="0.002553370907877698 0.7071067811865476 -0.7071021710453214"/>
    <dynamics damping="0.0" friction="0.001"/>
    <parent link="back_left_wheel"/>
    <child link="back_left_roller_12"/>
  </joint>
  <gazebo reference="back_left_roller_12">
    <mu1 value="2000.0"/>
    <mu2 value="2000.0"/>
    <kp value="1000000.0"/>
    <kd value="100.0"/>
    <material>Gazebo/Black</material>
  </gazebo>
  <!--  link  -->
  <link name="back_left_roller_13">
    <collision>
      <geometry>
        <sphere radius="0.009"/>
      </geometry>
    </collision>
    <inertial>
      <mass value="0.036"/>
      <inertia ixx="3128e-9" ixy="0.0" ixz="0.0" iyy="3128e-9" iyz="0.0" izz="3128e-9"/>
    </inertial>
  </link>
  <joint name="back_left_roller_13_joint" type="continuous">
    <origin rpy="0 0 0" xyz="-0.062029747891165755 0 -0.025978315506560806"/>
    <axis xyz="0.2731515696430154 0.7071067811865476 -0.6522179237046135"/>
    <dynamics damping="0.0" friction="0.001"/>
    <parent link="back_left_wheel"/>
    <child link="back_left_roller_13"/>
  </joint>
  <gazebo reference="back_left_roller_13">
    <mu1 value="2000.0"/>
    <mu2 value="2000.0"/>
    <kp value="1000000.0"/>
    <kd value="100.0"/>
    <material>Gazebo/Black</material>
  </gazebo>
  <!--  link  -->
  <link name="back_left_roller_14">
    <collision>
      <geometry>
        <sphere radius="0.009"/>
      </geometry>
    </collision>
    <inertial>
      <mass value="0.036"/>
      <inertia ixx="3128e-9" ixy="0.0" ixz="0.0" iyy="3128e-9" iyz="0.0" izz="3128e-9"/>
    </inertial>
  </link>
  <joint name="back_left_roller_14_joint" type="continuous">
    <origin rpy="0 0 0" xyz="-0.047352175978368535 0 -0.04775284211556018"/>
    <axis xyz="0.5021019848452515 0.7071067811865476 -0.49788914108911725"/>
    <dynamics damping="0.0" friction="0.001"/>
    <parent link="back_left_wheel"/>
    <child link="back_left_roller_14"/>
  </joint>
  <gazebo reference="back_left_roller_14">
    <mu1 value="2000.0"/>
    <mu2 value="2000.0"/>
    <kp value="1000000.0"/>
    <kd value="100.0"/>
    <material>Gazebo/Black</material>
  </gazebo>
  <!--  link  -->
  <link name="back_left_roller_15">
    <collision>
      <geometry>
        <sphere radius="0.009"/>
      </geometry>
    </collision>
    <inertial>
      <mass value="0.036"/>
      <inertia ixx="3128e-9" ixy="0.0" ixz="0.0" iyy="3128e-9" iyz="0.0" izz="3128e-9"/>
    </inertial>
  </link>
  <joint name="back_left_roller_15_joint" type="continuous">
    <origin rpy="0 0 0" xyz="-0.025454754743320145 0 -0.06224642930287183"/>
    <axis xyz="0.6544962418544192 0.7071067811865476 -0.2676465381775779"/>
    <dynamics damping="0.0" friction="0.001"/>
    <parent link="back_left_wheel"/>
    <child link="back_left_roller_15"/>
  </joint>
  <gazebo reference="back_left_roller_15">
    <mu1 value="2000.0"/>
    <mu2 value="2000.0"/>
    <kp value="1000000.0"/>
    <kd value="100.0"/>
    <material>Gazebo/Black</material>
  </gazebo>
  <!--  link  -->
  <link name="back_right_wheel">
    <visual>
      <geometry>
        <mesh filename="package://rm_description/meshes/common/right_threaded_mecanum_wheel.stl" scale="0.001 0.001 0.001"/>
      </geometry>
    </visual>
    <inertial>
      <mass value="0.59"/>
      <inertia ixx="1.416e-3" ixy="0.0" ixz="0.0" iyy="2.749e-3" iyz="0.0" izz="1.416e-3"/>
    </inertial>
  </link>
  <!--  joint  -->
  <joint name="back_right_wheel_joint" type="revolute">
    <axis xyz="0 1 0"/>
    <origin rpy="0 0 0" xyz="-0.19 -0.21 -0.109"/>
    <!--      limit not work while type="continuous"-->
    <limit effort="5" lower="-1e16" upper="1e16" velocity="50"/>
    <dynamics damping="0.0" friction="0.05"/>
    <parent link="base_link"/>
    <child link="back_right_wheel"/>
  </joint>
  <!--  link  -->
  <link name="back_right_roller_0">
    <collision>
      <geometry>
        <sphere radius="0.009"/>
      </geometry>
    </collision>
    <inertial>
      <mass value="0.036"/>
      <inertia ixx="3128e-9" ixy="0.0" ixz="0.0" iyy="3128e-9" iyz="0.0" izz="3128e-9"/>
    </inertial>
  </link>
  <joint name="back_right_roller_0_joint" type="continuous">
    <origin rpy="0 0 0" xyz="4.117874862132975e-18 0 -0.06725"/>
    <axis xyz="0.7071067811865476 -0.7071067811865476 0.0"/>
    <dynamics damping="0.0" friction="0.001"/>
    <parent link="back_right_wheel"/>
    <child link="back_right_roller_0"/>
  </joint>
  <gazebo reference="back_right_roller_0">
    <mu1 value="2000.0"/>
    <mu2 value="2000.0"/>
    <kp value="1000000.0"/>
    <kd value="100.0"/>
    <material>Gazebo/Black</material>
  </gazebo>
  <!--  link  -->
  <link name="back_right_roller_1">
    <collision>
      <geometry>
        <sphere radius="0.009"/>
      </geometry>
    </collision>
    <inertial>
      <mass value="0.036"/>
      <inertia ixx="3128e-9" ixy="0.0" ixz="0.0" iyy="3128e-9" iyz="0.0" izz="3128e-9"/>
    </inertial>
  </link>
  <joint name="back_right_roller_1_joint" type="continuous">
    <origin rpy="0 0 0" xyz="0.025754155985525513 0 -0.06212315147731336"/>
    <axis xyz="0.653200024955946 -0.7071067811865476 0.27079462217250855"/>
    <dynamics damping="0.0" friction="0.001"/>
    <parent link="back_right_wheel"/>
    <child link="back_right_roller_1"/>
  </joint>
  <gazebo reference="back_right_roller_1">
    <mu1 value="2000.0"/>
    <mu2 value="2000.0"/>
    <kp value="1000000.0"/>
    <kd value="100.0"/>
    <material>Gazebo/Black</material>
  </gazebo>
  <!--  link  -->
  <link name="back_right_roller_2">
    <collision>
      <geometry>
        <sphere radius="0.009"/>
      </geometry>
    </collision>
    <inertial>
      <mass value="0.036"/>
      <inertia ixx="3128e-9" ixy="0.0" ixz="0.0" iyy="3128e-9" iyz="0.0" izz="3128e-9"/>
    </inertial>
  </link>
  <joint name="back_right_roller_2_joint" type="continuous">
    <origin rpy="0 0 0" xyz="0.04758154151551398 0 -0.04752430333005861"/>
    <axis xyz="0.49969899116506866 -0.7071067811865476 0.5003008277312888"/>
    <dynamics damping="0.0" friction="0.001"/>
    <parent link="back_right_wheel"/>
    <child link="back_right_roller_2"/>
  </joint>
  <gazebo reference="back_right_roller_2">
    <mu1 value="2000.0"/>
    <mu2 value="2000.0"/>
    <kp value="1000000.0"/>
    <kd value="100.0"/>
    <material>Gazebo/Black</material>
  </gazebo>
  <!--  link  -->
  <link name="back_right_roller_3">
    <collision>
      <geometry>
        <sphere radius="0.009"/>
      </geometry>
    </collision>
    <inertial>
      <mass value="0.036"/>
      <inertia ixx="3128e-9" ixy="0.0" ixz="0.0" iyy="3128e-9" iyz="0.0" izz="3128e-9"/>
    </inertial>
  </link>
  <joint name="back_right_roller_3_joint" type="continuous">
    <origin rpy="0 0 0" xyz="0.062154106054395655 0 -0.02567936137404779"/>
    <axis xyz="0.2700081868271984 -0.7071067811865476 0.6535254999204613"/>
    <dynamics damping="0.0" friction="0.001"/>
    <parent link="back_right_wheel"/>
    <child link="back_right_roller_3"/>
  </joint>
  <gazebo reference="back_right_roller_3">
    <mu1 value="2000.0"/>
    <mu2 value="2000.0"/>
    <kp value="1000000.0"/>
    <kd value="100.0"/>
    <material>Gazebo/Black</material>
  </gazebo>
  <!--  link  -->
  <link name="back_right_roller_4">
    <collision>
      <geometry>
        <sphere radius="0.009"/>
      </geometry>
    </collision>
    <inertial>
      <mass value="0.036"/>
      <inertia ixx="3128e-9" ixy="0.0" ixz="0.0" iyy="3128e-9" iyz="0.0" izz="3128e-9"/>
    </inertial>
  </link>
  <joint name="back_right_roller_4_joint" type="continuous">
    <origin rpy="0 0 0" xyz="0.06724995128312455 0 8.094700349681064e-05"/>
    <axis xyz="-0.0008511252801386329 -0.7071067811865476 0.7071062689481388"/>
    <dynamics damping="0.0" friction="0.001"/>
    <parent link="back_right_wheel"/>
    <child link="back_right_roller_4"/>
  </joint>
  <gazebo reference="back_right_roller_4">
    <mu1 value="2000.0"/>
    <mu2 value="2000.0"/>
    <kp value="1000000.0"/>
    <kd value="100.0"/>
    <material>Gazebo/Black</material>
  </gazebo>
  <!--  link  -->
  <link name="back_right_roller_5">
    <collision>
      <geometry>
        <sphere radius="0.009"/>
      </geometry>
    </collision>
    <inertial>
      <mass value="0.036"/>
      <inertia ixx="3128e-9" ixy="0.0" ixz="0.0" iyy="3128e-9" iyz="0.0" izz="3128e-9"/>
    </inertial>
  </link>
  <joint name="back_right_roller_5_joint" type="continuous">
    <origin rpy="0 0 0" xyz="0.06209210689440703 0 0.025828913283634913"/>
    <axis xyz="-0.27158066518271434 -0.7071067811865476 0.6528736036162853"/>
    <dynamics damping="0.0" friction="0.001"/>
    <parent link="back_right_wheel"/>
    <child link="back_right_roller_5"/>
  </joint>
  <gazebo reference="back_right_roller_5">
    <mu1 value="2000.0"/>
    <mu2 value="2000.0"/>
    <kp value="1000000.0"/>
    <kd value="100.0"/>
    <material>Gazebo/Black</material>
  </gazebo>
  <!--  link  -->
  <link name="back_right_roller_6">
    <collision>
      <geometry>
        <sphere radius="0.009"/>
      </geometry>
    </collision>
    <inertial>
      <mass value="0.036"/>
      <inertia ixx="3128e-9" ixy="0.0" ixz="0.0" iyy="3128e-9" iyz="0.0" izz="3128e-9"/>
    </inertial>
  </link>
  <joint name="back_right_roller_6_joint" type="continuous">
    <origin rpy="0 0 0" xyz="0.04746699629001391 0 0.04763871076345167"/>
    <axis xyz="-0.5009019394471561 -0.7071067811865476 0.499096430620454"/>
    <dynamics damping="0.0" friction="0.001"/>
    <parent link="back_right_wheel"/>
    <child link="back_right_roller_6"/>
  </joint>
  <gazebo reference="back_right_roller_6">
    <mu1 value="2000.0"/>
    <mu2 value="2000.0"/>
    <kp value="1000000.0"/>
    <kd value="100.0"/>
    <material>Gazebo/Black</material>
  </gazebo>
  <!--  link  -->
  <link name="back_right_roller_7">
    <collision>
      <geometry>
        <sphere radius="0.009"/>
      </geometry>
    </collision>
    <inertial>
      <mass value="0.036"/>
      <inertia ixx="3128e-9" ixy="0.0" ixz="0.0" iyy="3128e-9" iyz="0.0" izz="3128e-9"/>
    </inertial>
  </link>
  <joint name="back_right_roller_7_joint" type="continuous">
    <origin rpy="0 0 0" xyz="0.02560452955756635 0 0.06218497058080603"/>
    <axis xyz="-0.6538500280382736 -0.7071067811865476 0.2692213602861942"/>
    <dynamics damping="0.0" friction="0.001"/>
    <parent link="back_right_wheel"/>
    <child link="back_right_roller_7"/>
  </joint>
  <gazebo reference="back_right_roller_7">
    <mu1 value="2000.0"/>
    <mu2 value="2000.0"/>
    <kp value="1000000.0"/>
    <kd value="100.0"/>
    <material>Gazebo/Black</material>
  </gazebo>
  <!--  link  -->
  <link name="back_right_roller_8">
    <collision>
      <geometry>
        <sphere radius="0.009"/>
      </geometry>
    </collision>
    <inertial>
      <mass value="0.036"/>
      <inertia ixx="3128e-9" ixy="0.0" ixz="0.0" iyy="3128e-9" iyz="0.0" izz="3128e-9"/>
    </inertial>
  </link>
  <joint name="back_right_roller_8_joint" type="continuous">
    <origin rpy="0 0 0" xyz="-0.0001618938897152502 0 0.06724980513256877"/>
    <axis xyz="-0.7071047322336546 -0.7071067811865476 -0.0017022493271422689"/>
    <dynamics damping="0.0" friction="0.001"/>
    <parent link="back_right_wheel"/>
    <child link="back_right_roller_8"/>
  </joint>
  <gazebo reference="back_right_roller_8">
    <mu1 value="2000.0"/>
    <mu2 value="2000.0"/>
    <kp value="1000000.0"/>
    <kd value="100.0"/>
    <material>Gazebo/Black</material>
  </gazebo>
  <!--  link  -->
  <link name="back_right_roller_9">
    <collision>
      <geometry>
        <sphere radius="0.009"/>
      </geometry>
    </collision>
    <inertial>
      <mass value="0.036"/>
      <inertia ixx="3128e-9" ixy="0.0" ixz="0.0" iyy="3128e-9" iyz="0.0" izz="3128e-9"/>
    </inertial>
  </link>
  <joint name="back_right_roller_9_joint" type="continuous">
    <origin rpy="0 0 0" xyz="-0.025903633160065442 0 0.062060972350654955"/>
    <axis xyz="-0.6525462363744081 -0.7071067811865476 -0.2723663147189738"/>
    <dynamics damping="0.0" friction="0.001"/>
    <parent link="back_right_wheel"/>
    <child link="back_right_roller_9"/>
  </joint>
  <gazebo reference="back_right_roller_9">
    <mu1 value="2000.0"/>
    <mu2 value="2000.0"/>
    <kp value="1000000.0"/>
    <kd value="100.0"/>
    <material>Gazebo/Black</material>
  </gazebo>
  <!--  link  -->
  <link name="back_right_roller_10">
    <collision>
      <geometry>
        <sphere radius="0.009"/>
      </geometry>
    </collision>
    <inertial>
      <mass value="0.036"/>
      <inertia ixx="3128e-9" ixy="0.0" ixz="0.0" iyy="3128e-9" iyz="0.0" izz="3128e-9"/>
    </inertial>
  </link>
  <joint name="back_right_roller_10_joint" type="continuous">
    <origin rpy="0 0 0" xyz="-0.04769581099104322 0 0.04740962047840798"/>
    <axis xyz="-0.49849314697045194 -0.7071067811865476 -0.5015023254417625"/>
    <dynamics damping="0.0" friction="0.001"/>
    <parent link="back_right_wheel"/>
    <child link="back_right_roller_10"/>
  </joint>
  <gazebo reference="back_right_roller_10">
    <mu1 value="2000.0"/>
    <mu2 value="2000.0"/>
    <kp value="1000000.0"/>
    <kd value="100.0"/>
    <material>Gazebo/Black</material>
  </gazebo>
  <!--  link  -->
  <link name="back_right_roller_11">
    <collision>
      <geometry>
        <sphere radius="0.009"/>
      </geometry>
    </collision>
    <inertial>
      <mass value="0.036"/>
      <inertia ixx="3128e-9" ixy="0.0" ixz="0.0" iyy="3128e-9" iyz="0.0" izz="3128e-9"/>
    </inertial>
  </link>
  <joint name="back_right_roller_11_joint" type="continuous">
    <origin rpy="0 0 0" xyz="-0.06221574501182705 0 0.02552966064449972"/>
    <axis xyz="-0.2684341436894733 -0.7071067811865476 -0.6541736088391974"/>
    <dynamics damping="0.0" friction="0.001"/>
    <parent link="back_right_wheel"/>
    <child link="back_right_roller_11"/>
  </joint>
  <gazebo reference="back_right_roller_11">
    <mu1 value="2000.0"/>
    <mu2 value="2000.0"/>
    <kp value="1000000.0"/>
    <kd value="100.0"/>
    <material>Gazebo/Black</material>
  </gazebo>
  <!--  link  -->
  <link name="back_right_roller_12">
    <collision>
      <geometry>
        <sphere radius="0.009"/>
      </geometry>
    </collision>
    <inertial>
      <mass value="0.036"/>
      <inertia ixx="3128e-9" ixy="0.0" ixz="0.0" iyy="3128e-9" iyz="0.0" izz="3128e-9"/>
    </inertial>
  </link>
  <joint name="back_right_roller_12_joint" type="continuous">
    <origin rpy="0 0 0" xyz="-0.06724956154854442 0 -0.00024284054137712588"/>
    <axis xyz="0.002553370907877698 -0.7071067811865476 -0.7071021710453214"/>
    <dynamics damping="0.0" friction="0.001"/>
    <parent link="back_right_wheel"/>
    <child link="back_right_roller_12"/>
  </joint>
  <gazebo reference="back_right_roller_12">
    <mu1 value="2000.0"/>
    <mu2 value="2000.0"/>
    <kp value="1000000.0"/>
    <kd value="100.0"/>
    <material>Gazebo/Black</material>
  </gazebo>
  <!--  link  -->
  <link name="back_right_roller_13">
    <collision>
      <geometry>
        <sphere radius="0.009"/>
      </geometry>
    </collision>
    <inertial>
      <mass value="0.036"/>
      <inertia ixx="3128e-9" ixy="0.0" ixz="0.0" iyy="3128e-9" iyz="0.0" izz="3128e-9"/>
    </inertial>
  </link>
  <joint name="back_right_roller_13_joint" type="continuous">
    <origin rpy="0 0 0" xyz="-0.062029747891165755 0 -0.025978315506560806"/>
    <axis xyz="0.2731515696430154 -0.7071067811865476 -0.6522179237046135"/>
    <dynamics damping="0.0" friction="0.001"/>
    <parent link="back_right_wheel"/>
    <child link="back_right_roller_13"/>
  </joint>
  <gazebo reference="back_right_roller_13">
    <mu1 value="2000.0"/>
    <mu2 value="2000.0"/>
    <kp value="1000000.0"/>
    <kd value="100.0"/>
    <material>Gazebo/Black</material>
  </gazebo>
  <!--  link  -->
  <link name="back_right_roller_14">
    <collision>
      <geometry>
        <sphere radius="0.009"/>
      </geometry>
    </collision>
    <inertial>
      <mass value="0.036"/>
      <inertia ixx="3128e-9" ixy="0.0" ixz="0.0" iyy="3128e-9" iyz="0.0" izz="3128e-9"/>
    </inertial>
  </link>
  <joint name="back_right_roller_14_joint" type="continuous">
    <origin rpy="0 0 0" xyz="-0.047352175978368535 0 -0.04775284211556018"/>
    <axis xyz="0.5021019848452515 -0.7071067811865476 -0.49788914108911725"/>
    <dynamics damping="0.0" friction="0.001"/>
    <parent link="back_right_wheel"/>
    <child link="back_right_roller_14"/>
  </joint>
  <gazebo reference="back_right_roller_14">
    <mu1 value="2000.0"/>
    <mu2 value="2000.0"/>
    <kp value="1000000.0"/>
    <kd value="100.0"/>
    <material>Gazebo/Black</material>
  </gazebo>
  <!--  link  -->
  <link name="back_right_roller_15">
    <collision>
      <geometry>
        <sphere radius="0.009"/>
      </geometry>
    </collision>
    <inertial>
      <mass value="0.036"/>
      <inertia ixx="3128e-9" ixy="0.0" ixz="0.0" iyy="3128e-9" iyz="0.0" izz="3128e-9"/>
    </inertial>
  </link>
  <joint name="back_right_roller_15_joint" type="continuous">
    <origin rpy="0 0 0" xyz="-0.025454754743320145 0 -0.06224642930287183"/>
    <axis xyz="0.6544962418544192 -0.7071067811865476 -0.2676465381775779"/>
    <dynamics damping="0.0" friction="0.001"/>
    <parent link="back_right_wheel"/>
    <child link="back_right_roller_15"/>
  </joint>
  <gazebo reference="back_right_roller_15">
    <mu1 value="2000.0"/>
    <mu2 value="2000.0"/>
    <kp value="1000000.0"/>
    <kd value="100.0"/>
    <material>Gazebo/Black</material>
  </gazebo>
  <transmission name="front_left_wheel_trans">
    <type>transmission_interface/SimpleTransmission</type>
    <actuator name="front_left_wheel_motor">
      <hardwareInterface>hardware_interface/EffortJointInterface</hardwareInterface>
      <mechanicalReduction>1</mechanicalReduction>
    </actuator>
    <joint name="front_left_wheel_joint">
      <hardwareInterface>hardware_interface/EffortJointInterface</hardwareInterface>
    </joint>
  </transmission>
  <transmission name="front_right_wheel_trans">
    <type>transmission_interface/SimpleTransmission</type>
    <actuator name="front_right_wheel_motor">
      <hardwareInterface>hardware_interface/EffortJointInterface</hardwareInterface>
      <mechanicalReduction>-1</mechanicalReduction>
    </actuator>
    <joint name="front_right_wheel_joint">
      <hardwareInterface>hardware_interface/EffortJointInterface</hardwareInterface>
    </joint>
  </transmission>
  <transmission name="back_left_wheel_trans">
    <type>transmission_interface/SimpleTransmission</type>
    <actuator name="back_left_wheel_motor">
      <hardwareInterface>hardware_interface/EffortJointInterface</hardwareInterface>
      <mechanicalReduction>1</mechanicalReduction>
    </actuator>
    <joint name="back_left_wheel_joint">
      <hardwareInterface>hardware_interface/EffortJointInterface</hardwareInterface>
    </joint>
  </transmission>
  <transmission name="back_right_wheel_trans">
    <type>transmission_interface/SimpleTransmission</type>
    <actuator name="back_right_wheel_motor">
      <hardwareInterface>hardware_interface/EffortJointInterface</hardwareInterface>
      <mechanicalReduction>-1</mechanicalReduction>
    </actuator>
    <joint name="back_right_wheel_joint">
      <hardwareInterface>hardware_interface/EffortJointInterface</hardwareInterface>
    </joint>
  </transmission>
  <!--  link  -->
  <link name="link1">
    <inertial>
      <mass value="1.7056"/>
      <origin xyz="0.004 0 0.0571"/>
      <inertia ixx="1.542e-2" ixy="0" ixz="-1.332e-3" iyy="1.028e-2" iyz="0" izz="1.017e-2"/>
    </inertial>
    <visual>
      <origin rpy="0 0 0" xyz="0 0 0"/>
      <geometry>
        <mesh filename="package://rm_description/meshes/engineer/link1.stl" scale="0.001 0.001 0.001"/>
      </geometry>
    </visual>
    <collision>
      <origin rpy="0 0 0" xyz="-0.045 0 0.035"/>
      <geometry>
        <box size="0.15 0.106 0.07"/>
      </geometry>
    </collision>
    <collision>
      <origin rpy="0 -0.95993 0" xyz="0.040 0 0.1"/>
      <geometry>
        <box size="0.17 0.106 0.095"/>
      </geometry>
    </collision>
    <collision>
      <origin rpy="1.5707963 0 0" xyz="0 0 0.05"/>
      <geometry>
        <cylinder length="0.188" radius="0.047"/>
      </geometry>
    </collision>
  </link>
  <link name="link2">
    <inertial>
      <mass value="1.4763"/>
      <origin xyz="0.05652 0 0"/>
      <inertia ixx="1.976e-3" ixy="5.791e-5" ixz="-2.47366e-7" iyy="8.418e-3" iyz="1.0e-7" izz="8.946e-3"/>
    </inertial>
    <visual>
      <origin rpy="0 0 0" xyz="0 0 0"/>
      <geometry>
        <mesh filename="package://rm_description/meshes/engineer/link2.stl" scale="0.001 0.001 0.001"/>
      </geometry>
    </visual>
    <collision>
      <origin xyz="0.062 0 0"/>
      <geometry>
        <box size="0.225 0.096 0.070"/>
      </geometry>
    </collision>
  </link>
  <link name="link3">
    <inertial>
      <mass value="0.5946"/>
      <origin xyz="0.0471 -0.0094 0.0003"/>
      <inertia ixx="6.49e-4" ixy="5.036e-5" ixz="-2.372e-5" iyy="2.739e-3" iyz="1.795e-6" izz="3.077e-3"/>
    </inertial>
    <visual>
      <origin rpy="0 0 0" xyz="0 0 0"/>
      <geometry>
        <mesh filename="package://rm_description/meshes/engineer/link3.stl" scale="0.001 0.001 0.001"/>
      </geometry>
    </visual>
    <collision>
      <origin xyz="0.063 0 0"/>
      <geometry>
        <box size="0.191 0.084 0.053"/>
      </geometry>
    </collision>
    <collision>
      <origin rpy="1.5707963 0 0" xyz="0 0 0"/>
      <geometry>
        <cylinder length="0.082" radius="0.047"/>
      </geometry>
    </collision>
  </link>
  <link name="link4">
    <inertial>
      <mass value="0.361"/>
      <origin xyz="0 0 0"/>
      <inertia ixx="2.593e-4" ixy="5.907e-3" ixz="2.629e-2" iyy="8.662e-5" iyz="0." izz="2.589e-4"/>
    </inertial>
    <visual>
      <origin rpy="0 0 0" xyz="0 0 0"/>
      <geometry>
        <mesh filename="package://rm_description/meshes/engineer/link4.stl" scale="0.001 0.001 0.001"/>
      </geometry>
    </visual>
    <collision>
      <origin rpy="0 0 0" xyz="0 0 0"/>
      <geometry>
        <box size="0.0513 0.074 0.0513"/>
      </geometry>
    </collision>
  </link>
  <link name="link5">
    <inertial>
      <mass value="0.249"/>
      <origin xyz="0.02737 0.0 0.0"/>
      <inertia ixx="6.090e-5" ixy="7.70024e-7" ixz="7.35489e-7" iyy="2.293e-4" iyz="0." izz="2.293e-4"/>
    </inertial>
    <visual>
      <origin rpy="0 0 0" xyz="0 0 0"/>
      <geometry>
        <mesh filename="package://rm_description/meshes/engineer/link5.stl" scale="0.001 0.001 0.001"/>
      </geometry>
    </visual>
    <collision>
      <origin rpy="0 0 0" xyz="0.015 0 0"/>
      <geometry>
        <box size="0.056 0.0513 0.0513"/>
      </geometry>
    </collision>
  </link>
  <!--  joint  -->
  <joint name="joint1" type="revolute">
    <axis xyz="0 0 1"/>
    <origin xyz="0.133 0 0.1"/>
    <!--      limit not work while type="continuous"-->
    <limit effort="20" lower="-3.141592653589793" upper="3.141592653589793" velocity="25"/>
    <dynamics damping="0.0" friction="0.1"/>
    <parent link="base_link"/>
    <child link="link1"/>
  </joint>
  <joint name="joint2" type="revolute">
    <axis xyz="0 1 0"/>
    <origin xyz="0.05909 0 0.1280"/>
    <limit effort="30" lower="-2.231" upper="0.407" velocity="10"/>
    <dynamics damping="0.0" friction="0.8"/>
    <parent link="link1"/>
    <child link="link2"/>
  </joint>
  <joint name="joint3" type="revolute">
    <axis xyz="0 1 0"/>
    <origin xyz="0.16 0 0"/>
    <limit effort="30" lower="-2.1645" upper="2.4078" velocity="10"/>
    <dynamics damping="0.0" friction="0.5"/>
    <parent link="link2"/>
    <child link="link3"/>
  </joint>
  <joint name="joint4" type="revolute">
    <axis xyz="0 1 0"/>
    <origin xyz="0.145 0 0"/>
    <limit effort="2.4" lower="-1.7278759594743864" upper="1.7278759594743864" velocity="34"/>
    <dynamics damping="0.0" friction="0.05"/>
    <parent link="link3"/>
    <child link="link4"/>
  </joint>
  <joint name="joint5" type="revolute">
    <axis xyz="1 0 0"/>
    <origin xyz="0 0 0"/>
    <limit effort="1.2" lower="-3.141592653589793" upper="3.141592653589793" velocity="34"/>
    <dynamics damping="0.0" friction="0.05"/>
    <parent link="link4"/>
    <child link="link5"/>
  </joint>
  <!-- transmission -->
  <transmission name="trans_joint1">
    <type>transmission_interface/SimpleTransmission</type>
    <actuator name="joint1_motor">
      <mechanicalReduction>4</mechanicalReduction>
    </actuator>
    <joint name="joint1">
      <hardwareInterface>hardware_interface/EffortJointInterface</hardwareInterface>
      <offset>-0.02552</offset>
    </joint>
  </transmission>
  <transmission name="trans_joint3">
    <type>transmission_interface/SimpleTransmission</type>
    <actuator name="joint3_motor">
      <mechanicalReduction>3</mechanicalReduction>
    </actuator>
    <joint name="joint3">
      <hardwareInterface>hardware_interface/EffortJointInterface</hardwareInterface>
      <offset>-0.6104</offset>
    </joint>
  </transmission>
  <transmission name="trans_joint2">
    <type>transmission_interface/SimpleTransmission</type>
    <actuator name="joint2_motor">
      <mechanicalReduction>-3</mechanicalReduction>
    </actuator>
    <joint name="joint2">
      <hardwareInterface>hardware_interface/EffortJointInterface</hardwareInterface>
      <offset>0</offset>
    </joint>
  </transmission>
  <transmission name="trans_joint4">
    <type>transmission_interface/SimpleTransmission</type>
    <actuator name="joint4_motor">
      <hardwareInterface>hardware_interface/EffortJointInterface</hardwareInterface>
      <mechanicalReduction>1</mechanicalReduction>
    </actuator>
    <joint name="joint4">
      <hardwareInterface>hardware_interface/EffortJointInterface</hardwareInterface>
    </joint>
  </transmission>
  <transmission name="trans_joint5">
    <type>transmission_interface/SimpleTransmission</type>
    <actuator name="joint5_motor">
      <hardwareInterface>hardware_interface/EffortJointInterface</hardwareInterface>
      <mechanicalReduction>1</mechanicalReduction>
    </actuator>
    <joint name="joint5">
      <hardwareInterface>hardware_interface/EffortJointInterface</hardwareInterface>
    </joint>
  </transmission>
  <material name="Black">
    <color rgba="0 0 0 1"/>
  </material>
  <material name="White">
    <color rgba="1 1 1 1"/>
  </material>
  <link name="palm">
    <inertial>
      <origin rpy="0 0 0" xyz="0.01877 0.0475 -0.000028"/>
      <mass value="0.406611"/>
      <inertia ixx="2.719e-3" ixy="-3.243e-4" ixz="228.248e-9" iyy="2.564e-4" iyz="1515.727e-9" izz="2.9e-3"/>
    </inertial>
    <visual>
      <geometry>
        <mesh filename="package://rm_description/meshes/engineer/palm.stl" scale="0.001 0.001 0.001"/>
      </geometry>
    </visual>
    <collision>
      <origin rpy="0 0 0" xyz="0.0225 0.0 0"/>
      <geometry>
        <box size="0.045 0.2658 0.0675"/>
      </geometry>
    </collision>
  </link>
  <link name="right_finger">
    <inertial>
      <origin rpy="0 0 0" xyz="0.01491 -0.06058 0"/>
      <mass value="0.203967"/>
      <inertia ixx="1.025e-3" ixy="3.865e-4" ixz="-1.144e-9" iyy="3.051e-4" iyz="4.649e-9" izz="1.295e-3"/>
    </inertial>
    <visual>
      <geometry>
        <mesh filename="package://rm_description/meshes/engineer/right_finger.stl" scale="0.001 0.001 0.001"/>
      </geometry>
    </visual>
    <collision>
      <origin rpy="0 0 0" xyz="0.011 -0.04 0"/>
      <geometry>
        <box size="0.048 0.026 0.030"/>
      </geometry>
    </collision>
    <collision>
      <origin rpy="0 0 0" xyz="0.0235 -0.0832 0"/>
      <geometry>
        <box size="0.022 0.1123 0.03"/>
      </geometry>
    </collision>
    <collision>
      <origin rpy="0 0 0" xyz="0.069 -0.13 0"/>
      <geometry>
        <box size="0.112 0.0157 0.03"/>
      </geometry>
    </collision>
    <collision>
      <origin rpy="0 0 0" xyz="0.105 -0.1232 0"/>
      <geometry>
        <box size="0.04 0.0323 0.03"/>
      </geometry>
    </collision>
  </link>
  <link name="left_finger">
    <inertial>
      <origin rpy="0 0 0" xyz="0.01491 0.061581 0"/>
      <mass value="0.203967"/>
      <inertia ixx="1.053e-3" ixy="-3.865e-4" ixz="-1.144e-9" iyy="3.051e-4" iyz="-4.733e-9" izz="1.323e-3"/>
    </inertial>
    <visual>
      <geometry>
        <mesh filename="package://rm_description/meshes/engineer/left_finger.stl" scale="0.001 0.001 0.001"/>
      </geometry>
    </visual>
    <collision>
      <origin rpy="0 0 0" xyz="0.011 0.04 0"/>
      <geometry>
        <box size="0.048 0.026 0.030"/>
      </geometry>
    </collision>
    <collision>
      <origin rpy="0 0 0" xyz="0.0235 0.0832 0"/>
      <geometry>
        <box size="0.022 0.1123 0.03"/>
      </geometry>
    </collision>
    <collision>
      <origin rpy="0 0 0" xyz="0.069 0.12 0"/>
      <geometry>
        <box size="0.112 0.03 0.03"/>
      </geometry>
    </collision>
  </link>
  <link name="camera">
    <inertial>
      <mass value="0.05"/>
      <origin xyz="0 0 0"/>
      <inertia ixx="1.271e-3" ixy="2.07e-7" ixz="8.854e-6" iyy="5.190e-4" iyz="1.001e-6" izz="9.976e-4"/>
    </inertial>
    <visual>
      <origin rpy="0 0 0" xyz=" 0 0 0 "/>
      <geometry>
        <box size="0.022 0.021 0.0226"/>
      </geometry>
      <material name="Black"/>
    </visual>
    <collision>
      <origin rpy="0 0 0" xyz="0.0 0.0 0.0"/>
      <geometry>
        <box size="0.01 0.04 0.04"/>
      </geometry>
    </collision>
  </link>
  <joint name="camera_joint" type="fixed">
    <parent link="palm"/>
    <child link="camera"/>
    <origin rpy="0 0 0" xyz="0.055 -0.085 0.0962"/>
    <axis xyz="0 0 1"/>
  </joint>
  <joint name="palm_joint" type="fixed">
    <parent link="link5"/>
    <child link="palm"/>
    <origin rpy="0 0 0" xyz="0.039 0 0"/>
  </joint>
  <joint name="right_finger_joint" type="prismatic">
    <parent link="palm"/>
    <child link="right_finger"/>
    <origin rpy="0 0 0" xyz="0.032 0 0"/>
    <axis xyz="0 1 0"/>
    <limit effort="588" lower="0.0" upper="0.02" velocity="3.772"/>
  </joint>
  <joint name="left_finger_joint" type="prismatic">
    <parent link="palm"/>
    <child link="left_finger"/>
    <origin rpy="0 0 0" xyz="0.032 0 0"/>
    <axis xyz="0 -1 0"/>
    <limit effort="588" lower="0.0" upper="0.02" velocity="3.772"/>
    <mimic joint="right_finger_joint"/>
  </joint>
  <gazebo>
    <plugin filename="libroboticsgroup_upatras_gazebo_mimic_joint_plugin.so" name="left_finger_mimic_joint_plugin">
      <joint>right_finger_joint</joint>
      <mimicJoint>left_finger_joint</mimicJoint>
      <hasPID/>
      <maxEffort>588.0</maxEffort>
    </plugin>
  </gazebo>
  <gazebo reference="right_finger">
    <self_collide>1</self_collide>
    <mu1 value="2000000000.0"/>
    <mu2 value="2000000000.0"/>
    <kp value="1000000.0"/>
    <kd value="100.0"/>
    <material>Gazebo/Black</material>
  </gazebo>
  <gazebo reference="left_finger">
    <self_collide>1</self_collide>
    <mu1 value="2000000000.0"/>
    <mu2 value="2000000000.0"/>
    <kp value="1000000.0"/>
    <kd value="100.0"/>
    <material>Gazebo/Black</material>
  </gazebo>
  <transmission name="trans_right_finger_joint">
    <type>transmission_interface/SimpleTransmission</type>
    <joint name="right_finger_joint">
      <hardwareInterface>hardware_interface/EffortJointInterface</hardwareInterface>
      <offset>0.0</offset>
    </joint>
    <actuator name="right_finger_motor">
      <hardwareInterface>hardware_interface/EffortJointInterface</hardwareInterface>
      <mechanicalReduction>-4712.388</mechanicalReduction>
    </actuator>
  </transmission>
  <gazebo>
    <plugin filename="librm_robot_hw_sim.so" name="rm_ros_control">
      <robotNamespace>/</robotNamespace>
      <robotSimType>rm_gazebo/RmRobotHWSim</robotSimType>
    </plugin>
  </gazebo>
</robot>
